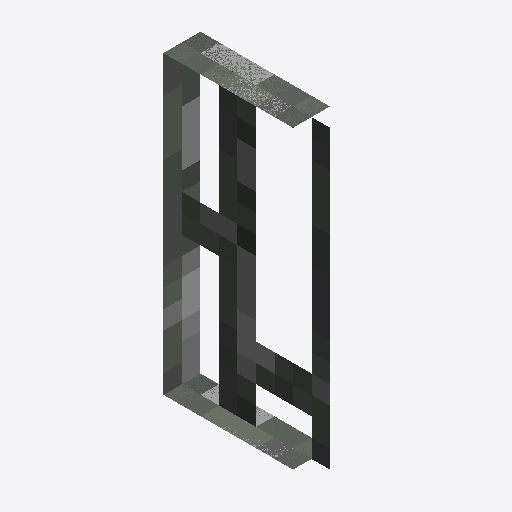
A Minecraft block model of 4 cuboids, rendered isometrically (azimuth 45°, elevation 35.3°) with the resource pack's own textures.
Parts seen in each view (by area): element 1, element 2, element 4, element 3.
Boxes of the visible parts, x1=… form: element 1: x1=182, y1=71, x2=329, y2=468; element 2: x1=163, y1=45, x2=199, y2=394; element 4: x1=164, y1=32, x2=329, y2=127; element 3: x1=164, y1=374, x2=311, y2=468.
Size of the model in its own units: 2 by 16 by 8.